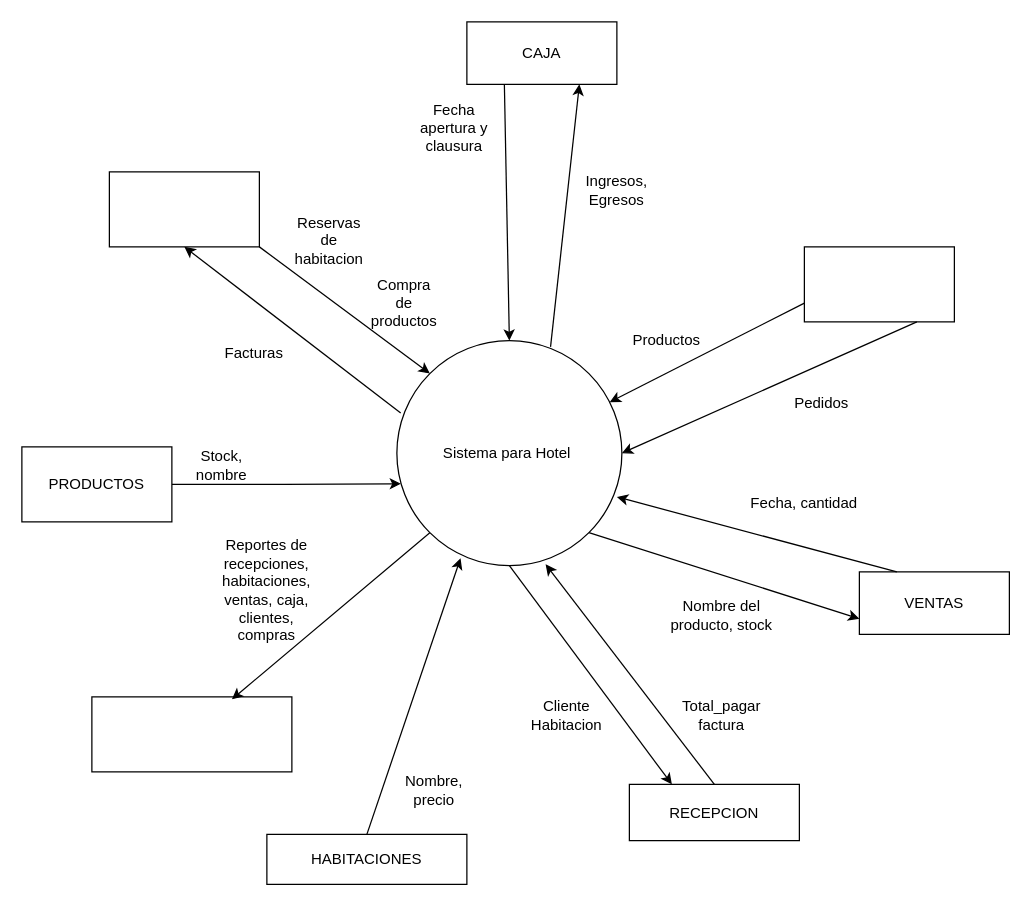
The diagram is 1031 pixels wide and 906 high, and some of its shapes have lost their labels. Each missing label, with the centre of its shape:
ADMINISTRACION: the point at 191,734
CLIENTES: the point at 183,209
PROVEEDORES: the point at 878,284
